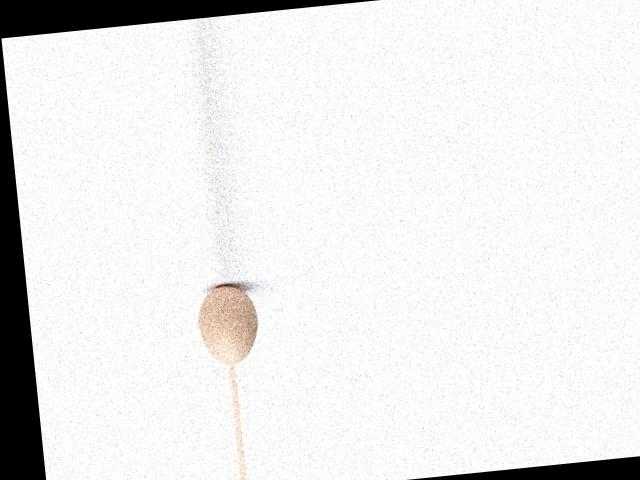egg: (194, 281, 261, 367)
